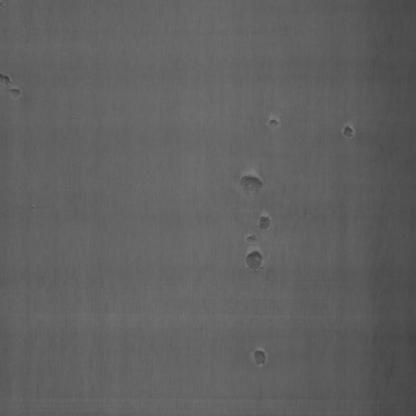rolled_pit: (249, 326, 276, 390), (237, 157, 268, 211), (238, 234, 272, 281), (332, 113, 362, 152), (260, 102, 285, 144), (250, 194, 273, 230)
